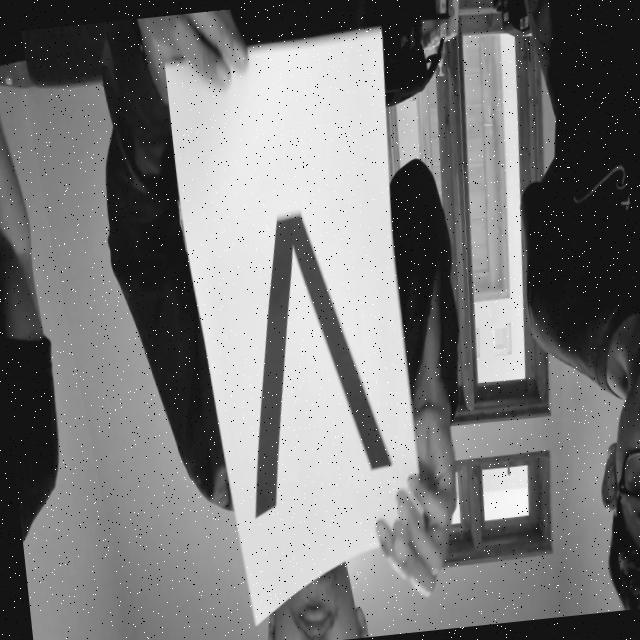v: (210, 182, 398, 518)
